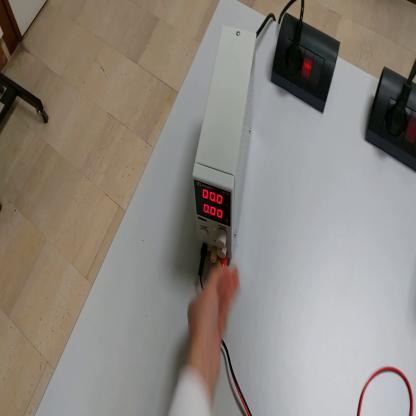hand: (185, 262, 240, 387)
power supply: (191, 23, 257, 261)
socket: (270, 11, 342, 117), (369, 58, 416, 176)
